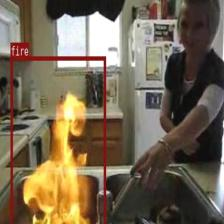fire: (10, 56, 105, 224)
